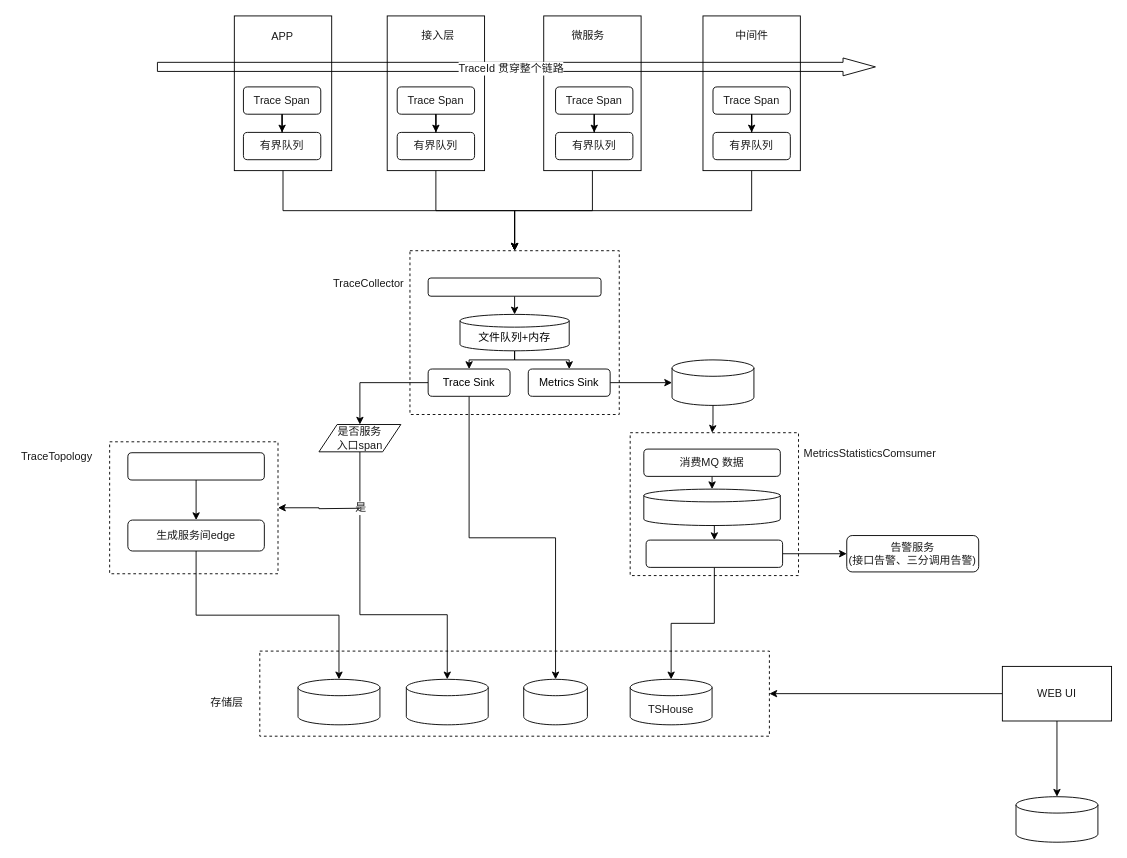
This 1127x858 diagram has some shape labels left out. The shapes that lost their labels are listed below. From the top down, each one's centre as x and y in pixels, then its label:
At pixel 514 286: "Dataflow Http Server".
At pixel 712 382: "Rocket MQ".
At pixel 195 466: "构建链路".
At pixel 711 507: "内存聚合Metrics".
At pixel 714 553: "定时消费".
At pixel 338 701: "SQlite".
At pixel 446 701: "Elasticsearch".
At pixel 555 701: "Daks".
At pixel 1056 819: "MySql 管理数据".
